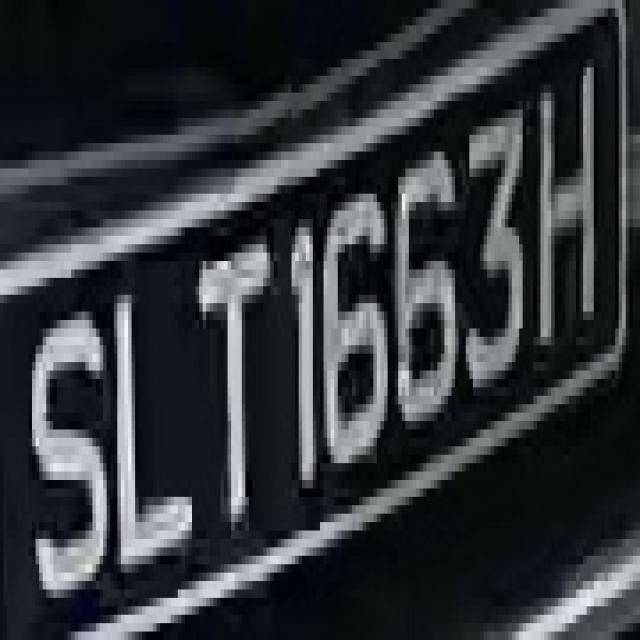1: (288, 194, 324, 505)
3: (466, 92, 522, 396)
6: (320, 177, 395, 505), (384, 135, 466, 429)
H: (523, 59, 608, 354)
L: (110, 252, 199, 572)
S: (18, 278, 114, 623)
T: (188, 228, 278, 564)
